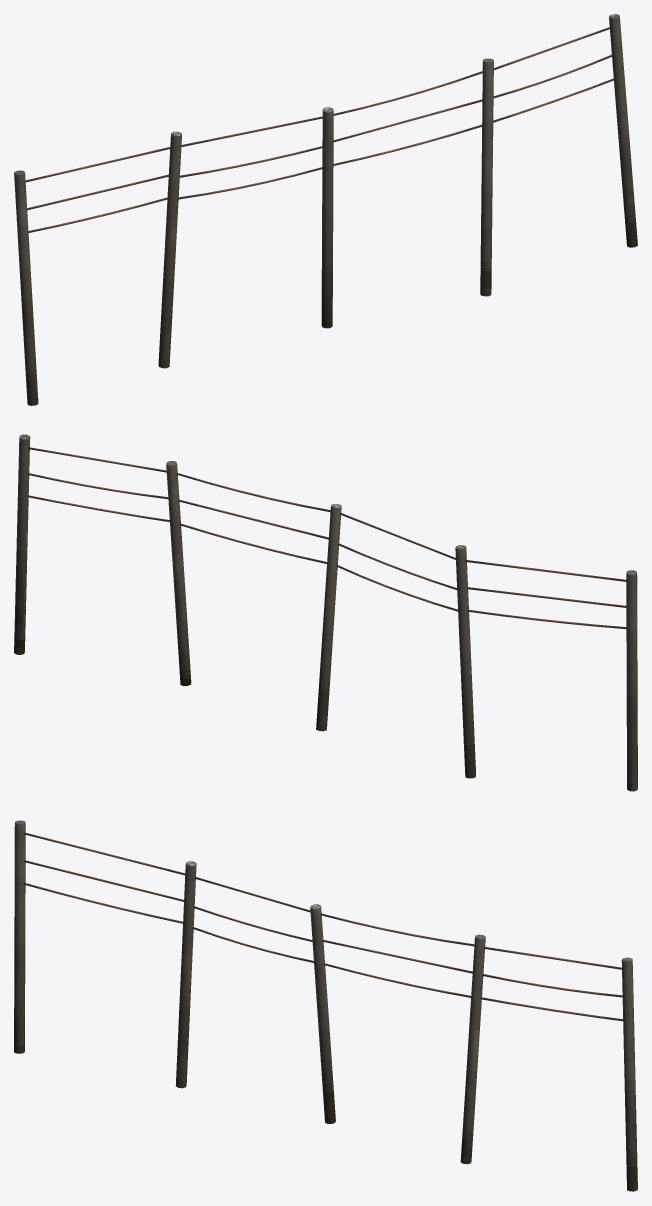
The model's file is objects_un_base_woodenfence01.gltf.
3 renders of one model, top to bottom at view 1: azimuth 30°, elevation 25°; view 2: azimuth 150°, elevation 25°; view 3: azimuth 330°, elevation 25°, orthographic. The views are drawn at different scales.
Visible parts, largest first — view 1: um_objects_un_base_woodenfence01_model_lod0Shape:objects_un_; view 2: um_objects_un_base_woodenfence01_model_lod0Shape:objects_un_; view 3: um_objects_un_base_woodenfence01_model_lod0Shape:objects_un_.
Part boxes in pixels (bbox=[...]): um_objects_un_base_woodenfence01_model_lod0Shape:objects_un_: bbox=[14, 14, 637, 405]; um_objects_un_base_woodenfence01_model_lod0Shape:objects_un_: bbox=[14, 434, 637, 791]; um_objects_un_base_woodenfence01_model_lod0Shape:objects_un_: bbox=[14, 820, 637, 1191].
Size of what is drawn, in the model's own units: 7.41 by 2.69 by 0.5122.
2 materials, 1 textured.
